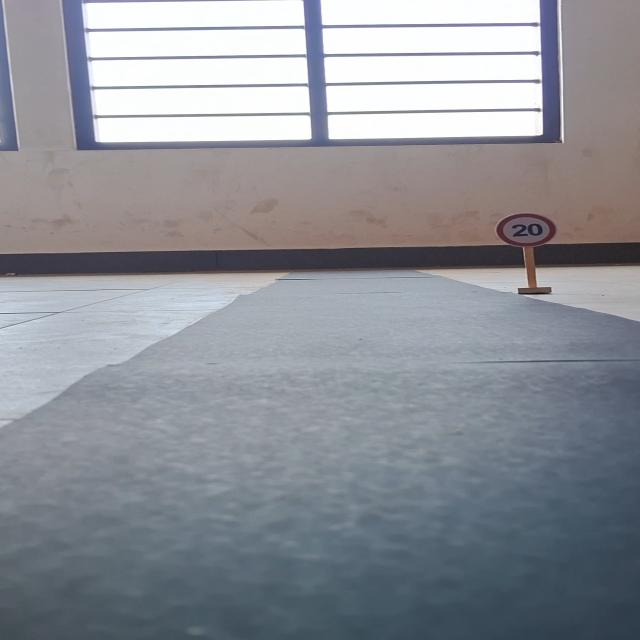Speed20: (493, 211, 564, 250)
